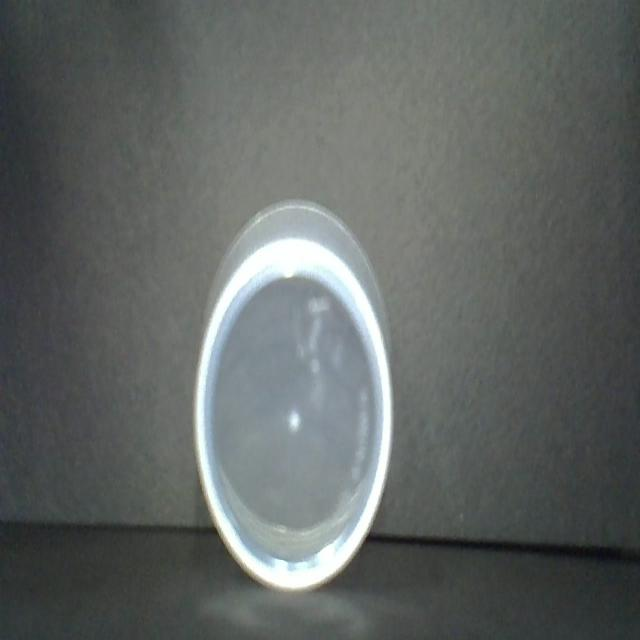cup: (183, 184, 400, 608)
